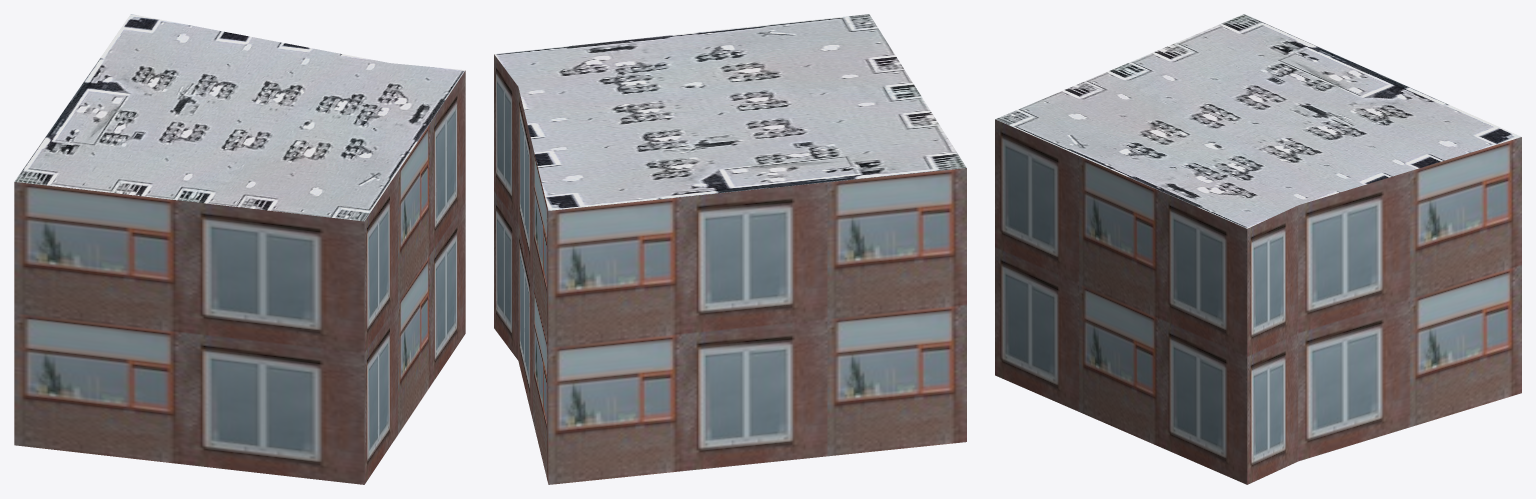
Rendered from ResTex__848.fbx.
3 views of the same model, side by side, from view 1: azimuth 30°, elevation 25°; view 2: azimuth 150°, elevation 25°; view 3: azimuth 270°, elevation 25° (orthographic). The views are drawn at different scales.
Parts seen in each view (by area): view 1: CityEngineMaterial_19_m, CityEngineMaterial_15_m; view 2: CityEngineMaterial_19_m, CityEngineMaterial_15_m; view 3: CityEngineMaterial_19_m, CityEngineMaterial_15_m.
Boxes of the visible parts, box(x1,y1,x2,y2) form: CityEngineMaterial_19_m: box(14, 70, 465, 484); CityEngineMaterial_15_m: box(14, 14, 465, 221); CityEngineMaterial_19_m: box(494, 54, 966, 484); CityEngineMaterial_15_m: box(494, 14, 966, 210); CityEngineMaterial_19_m: box(995, 119, 1521, 484); CityEngineMaterial_15_m: box(995, 14, 1521, 228).
Size of the model in its own units: 10.79 by 6 by 11.19.
Materials: 2 (2 with a texture image).
